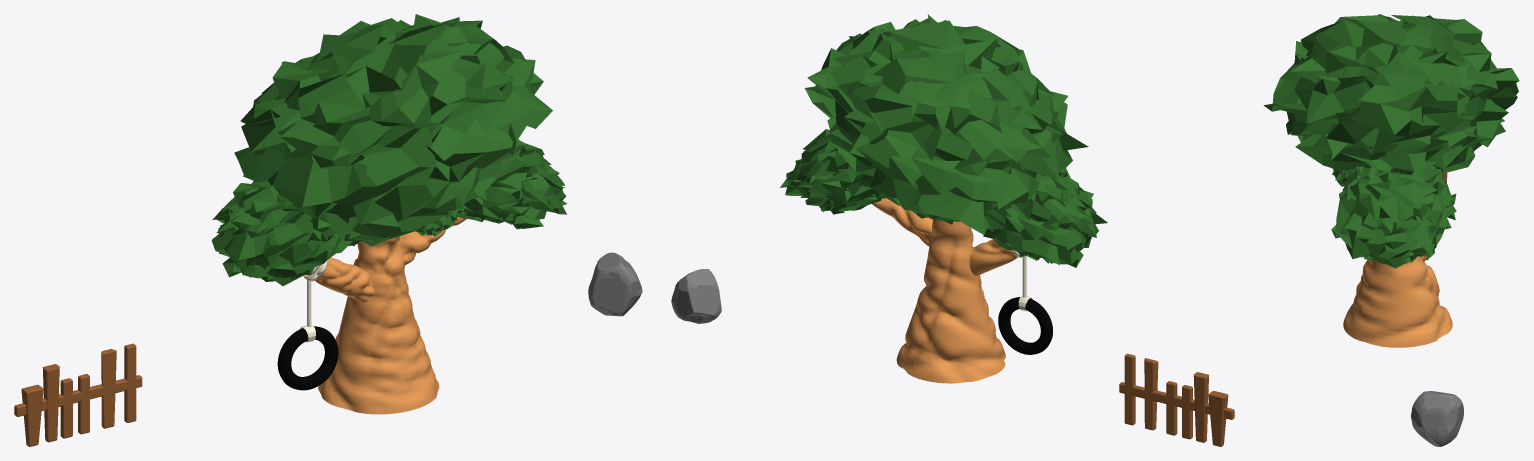
The model's file is bakodk.fbx.
3 renders of one model, left to right at view 1: azimuth 30°, elevation 25°; view 2: azimuth 150°, elevation 25°; view 3: azimuth 270°, elevation 25°, orthographic. The views are drawn at different scales.
Visible parts, largest first — view 1: NurbsPath.002, Cube.002, Cube.003; view 2: NurbsPath.002, Cube.002, Cube.003; view 3: NurbsPath.002, Cube.003.
Part boxes in pixels (box(x1,y1,x2,y2)): NurbsPath.002: box(212, 14, 566, 414); Cube.002: box(14, 343, 142, 446); Cube.003: box(588, 252, 642, 316); NurbsPath.002: box(780, 14, 1107, 383); Cube.002: box(1119, 353, 1234, 446); Cube.003: box(671, 269, 721, 323); NurbsPath.002: box(1263, 14, 1519, 347); Cube.003: box(1411, 391, 1463, 446).
Size of the model in its own units: 17339 by 9613 by 6949.
